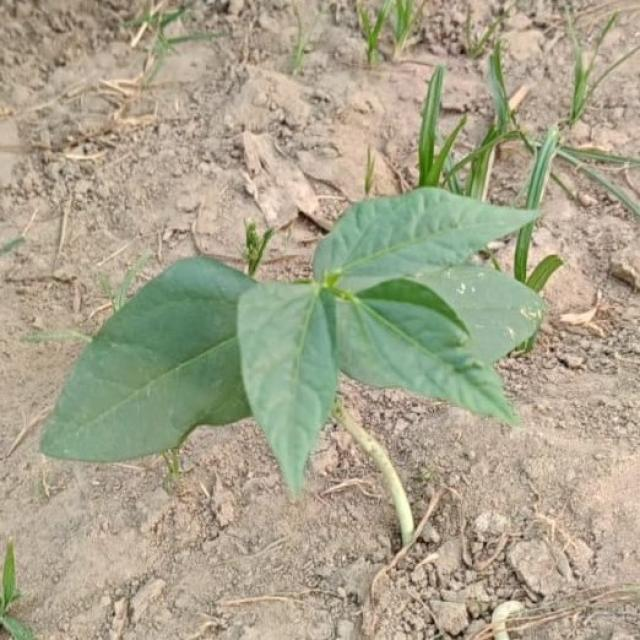plant: (41, 188, 545, 543)
